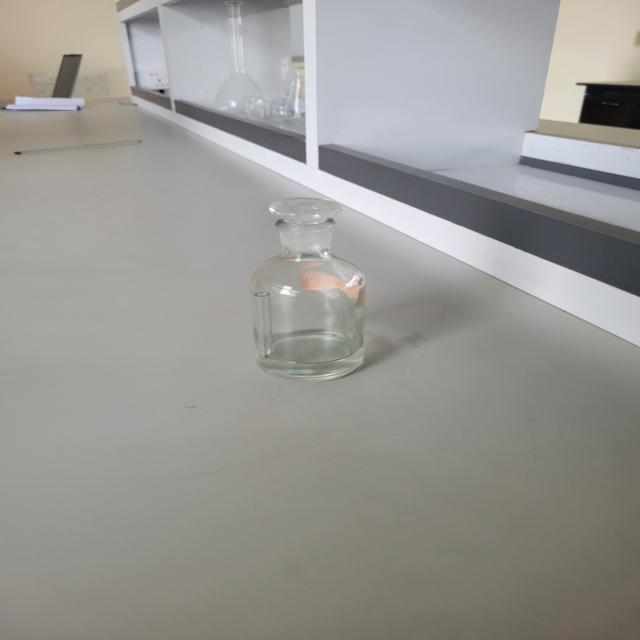Reagent_Bottle: (195, 165, 423, 412)
